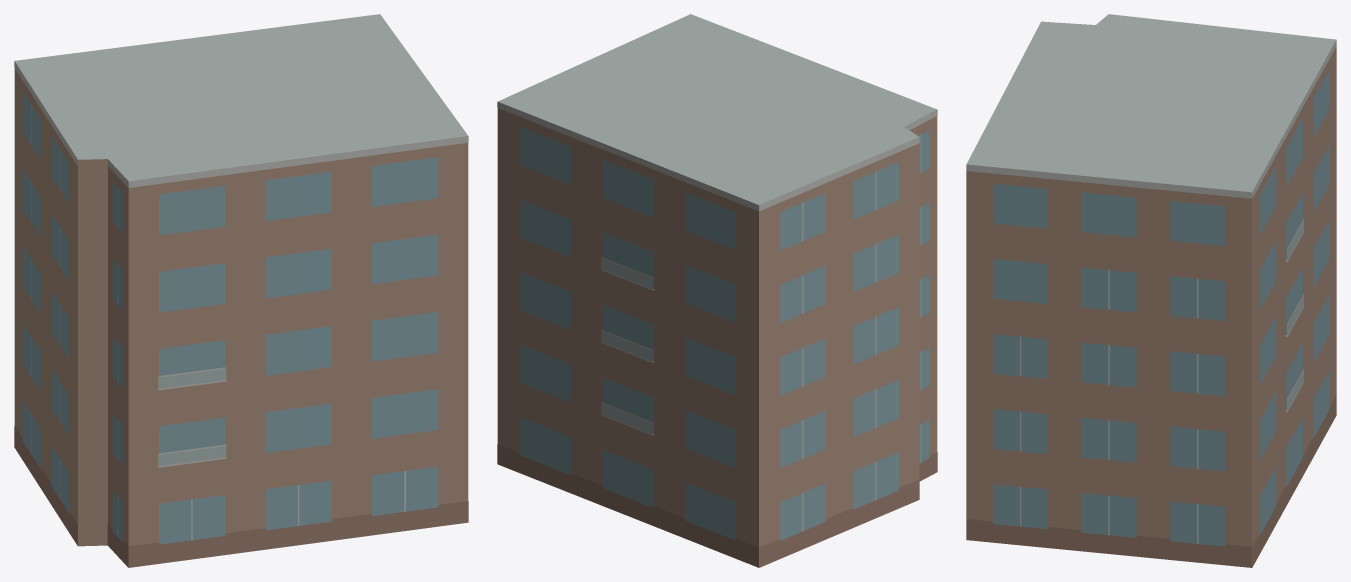
File: survey-upis-32844980.glb
3 renders of one model, left to right at view 1: azimuth 30°, elevation 25°; view 2: azimuth 150°, elevation 25°; view 3: azimuth 270°, elevation 25°, orthographic. The views are drawn at different scales.
Visible parts, largest first — view 1: survey-upis-32844980.tmp; view 2: survey-upis-32844980.tmp; view 3: survey-upis-32844980.tmp.
Part boxes in pixels (left/top/right/bottom): survey-upis-32844980.tmp: left=14, top=14, right=468, bottom=567; survey-upis-32844980.tmp: left=497, top=14, right=937, bottom=567; survey-upis-32844980.tmp: left=966, top=14, right=1336, bottom=567.
Bounding box in the file's own units: 14.42 × 14.15 × 12.65.
